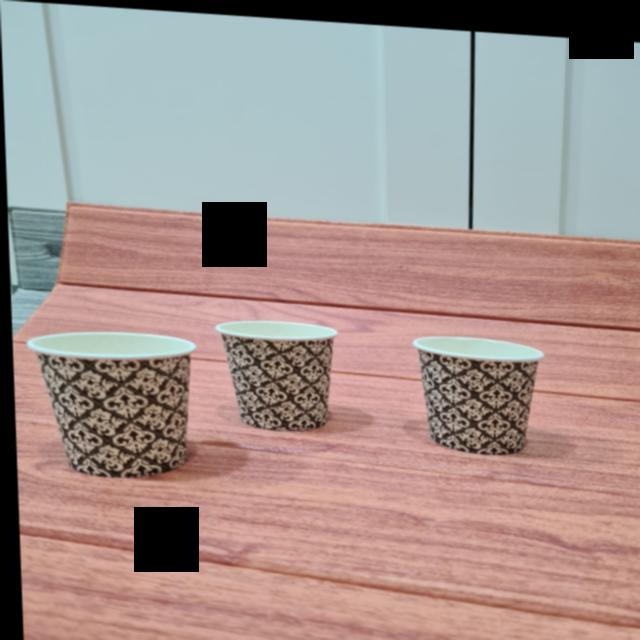cups: (24, 324, 199, 482), (406, 323, 548, 454), (219, 312, 345, 429)
